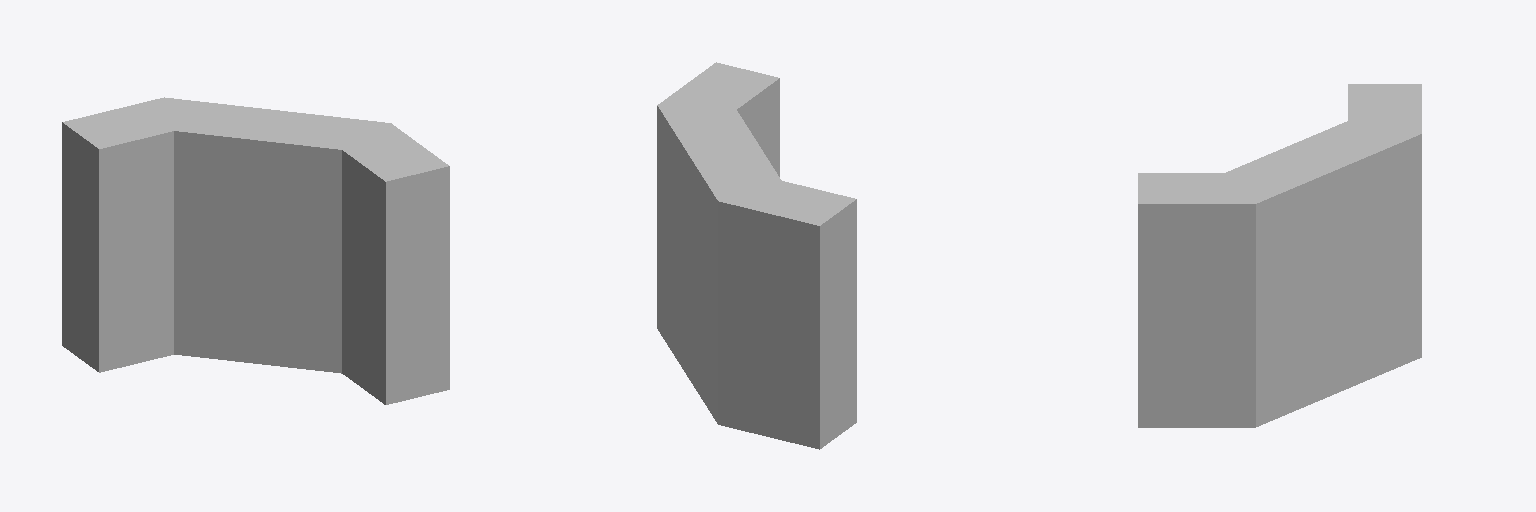
Rendered from struct_wall_tapered_main.obj.
3 views of the same model, side by side, from view 1: azimuth 30°, elevation 25°; view 2: azimuth 150°, elevation 25°; view 3: azimuth 270°, elevation 25° (orthographic).
Parts seen in each view (by area): view 1: struct_wall_tapered_main; view 2: struct_wall_tapered_main; view 3: struct_wall_tapered_main.
Part boxes in pixels (x1,y1,x2,y2): struct_wall_tapered_main: (62,97,449,404); struct_wall_tapered_main: (657,62,856,449); struct_wall_tapered_main: (1138,84,1421,427).
Bounding box in the file's own units: 1.15 × 1 × 1.15.